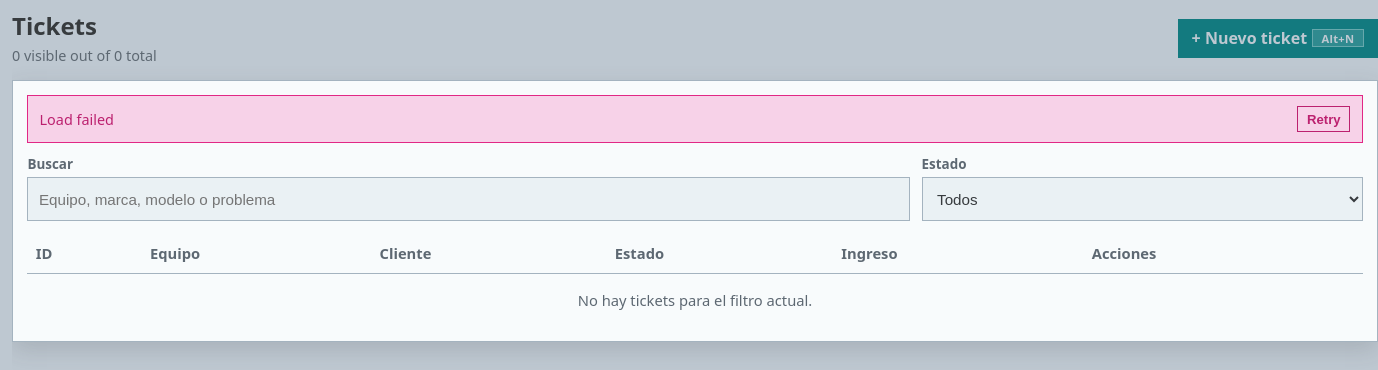
Test: TicketsComponent › should show error and retry loading data
Click the button with class "btn-inline" at x=1324, y=119, box [1297,106,1350,132]
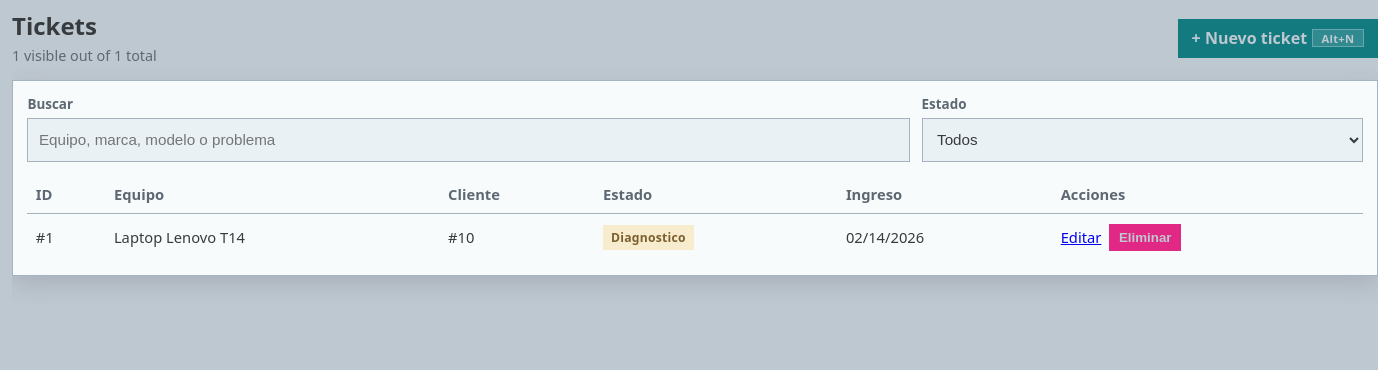
Result: the text "#1" is shown at [27,214,106,260]
